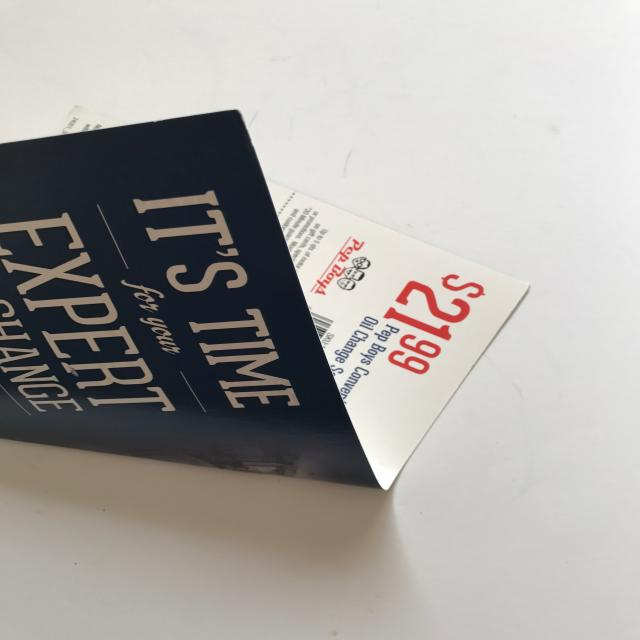paper: (1, 106, 530, 491)
